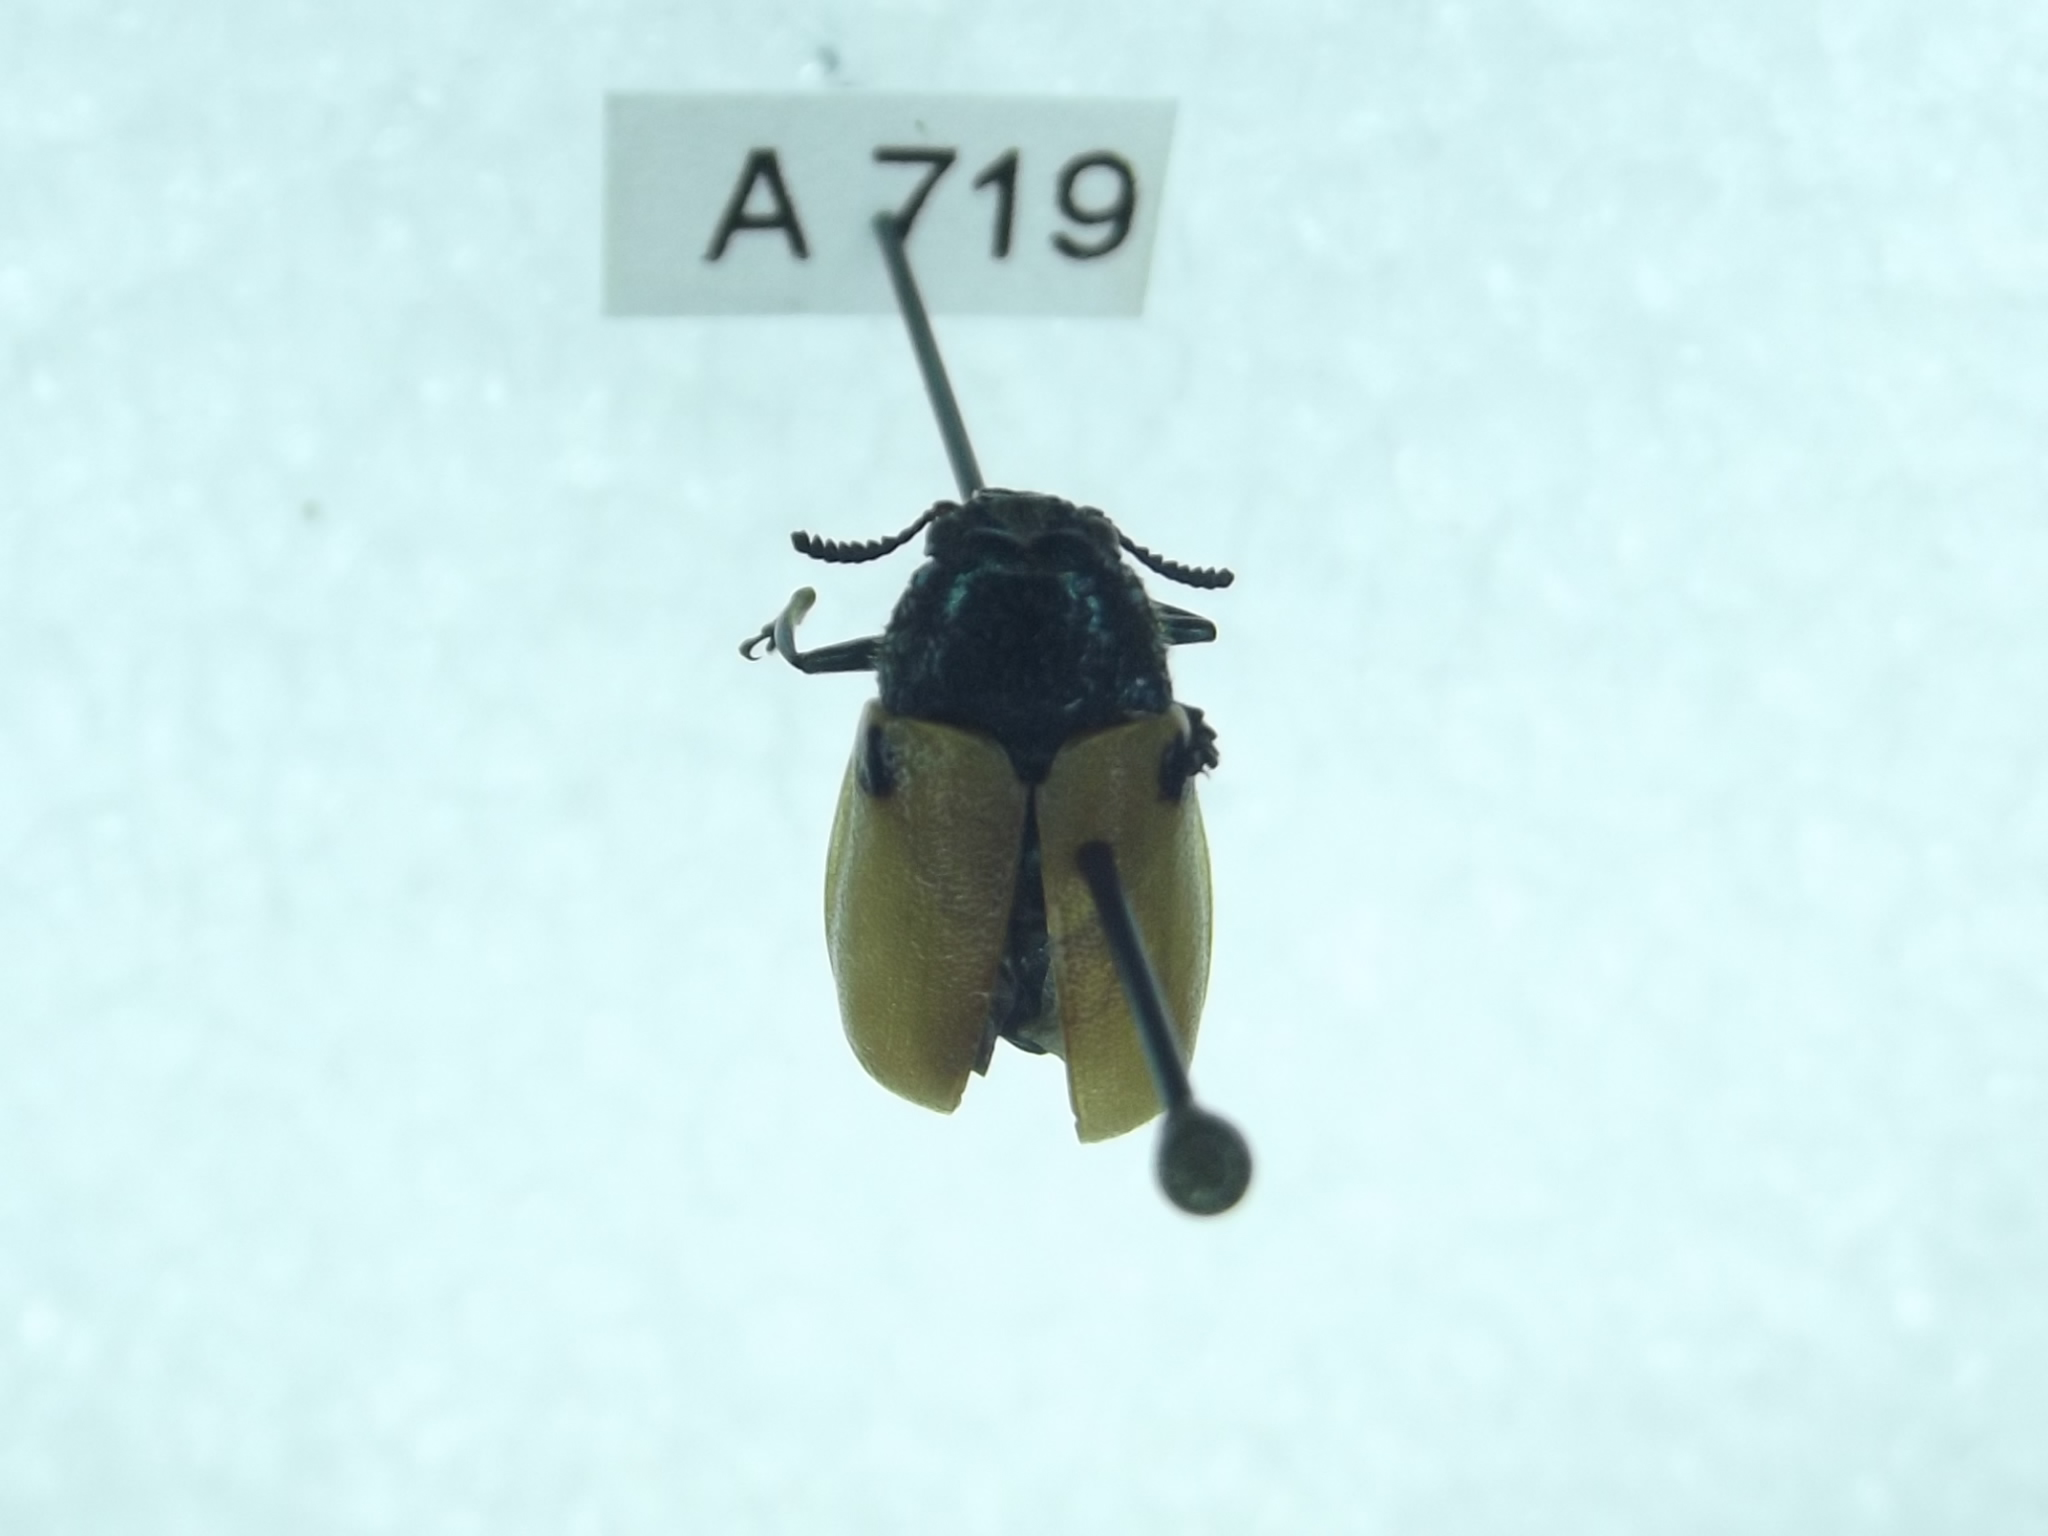Labidostomis_propinqua: (737, 466, 1250, 1160)
